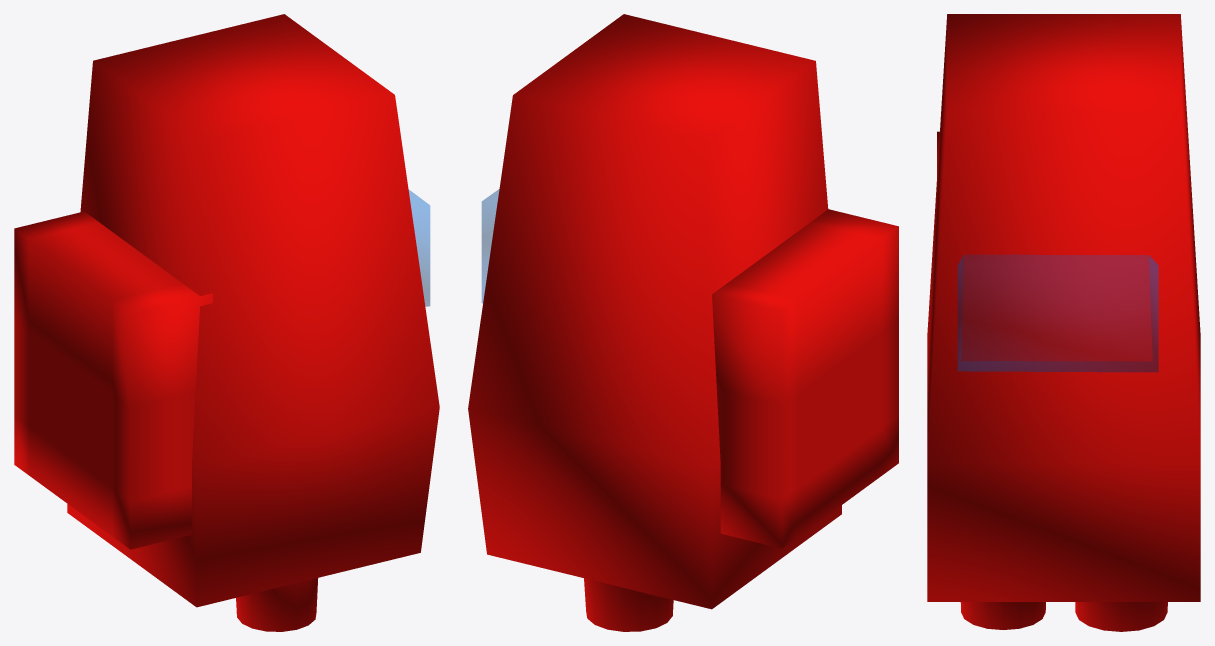
Rendered from sus.glb.
The picture shows the model from 3 angles, left to right: view 1: azimuth 30°, elevation 25°; view 2: azimuth 150°, elevation 25°; view 3: azimuth 270°, elevation 25°; orthographic projection. The views are drawn at different scales.
Visible parts, largest first — view 1: Body, Backpack, RightLeg, Visor; view 2: Body, Backpack, LeftLeg, Visor; view 3: Body, Visor, LeftLeg, RightLeg.
Boxes of the visible parts, <box> form: Body: <box>67,14,439,607</box>; Backpack: <box>14,211,212,549</box>; RightLeg: <box>236,578,318,631</box>; Visor: <box>409,190,429,306</box>; Body: <box>468,14,841,609</box>; Backpack: <box>712,209,898,548</box>; LeftLeg: <box>584,578,673,631</box>; Visor: <box>482,189,499,302</box>; Body: <box>927,14,1200,601</box>; Visor: <box>958,254,1158,371</box>; LeftLeg: <box>1075,602,1167,631</box>; RightLeg: <box>960,602,1045,629</box>.
Size of the model in its own units: 2.78 by 4.41 by 2.
